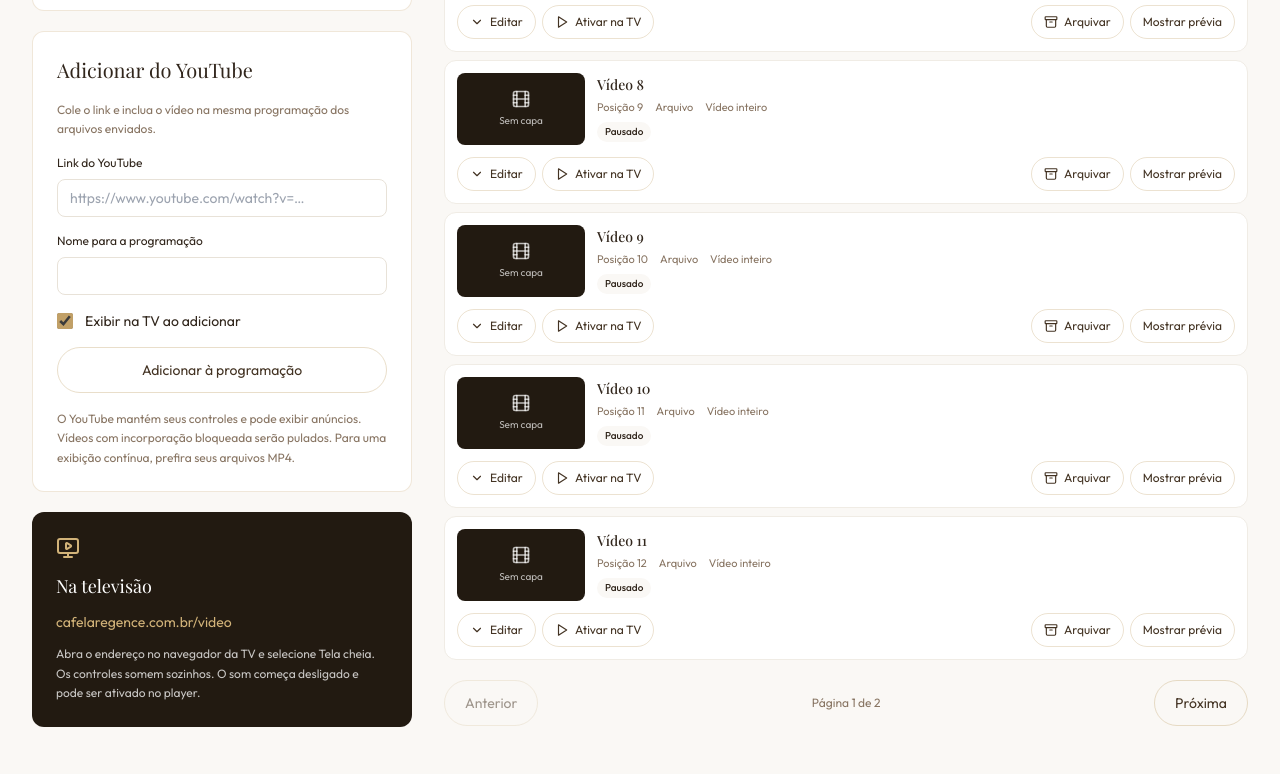
Test: bounds the playlist to 12 items per page and resets the page when filtering
(page scrolled)
Expected: the button "Anterior" is disabled, [444,680,538,726]
Click the button "Próxima": point(1201, 703) [1154,680,1248,726]
(page scrolled)
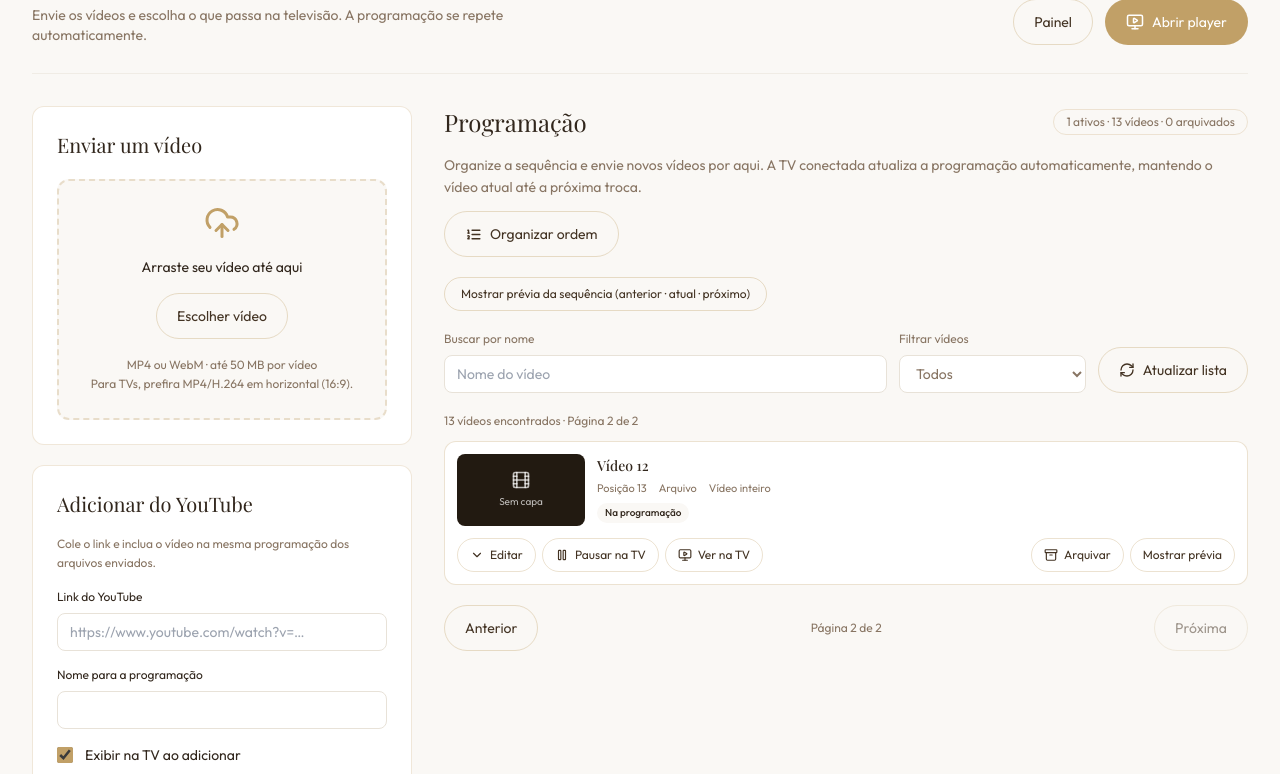
Expected: the element "Vídeo 12" is shown, [444,441,1248,585]
Expected: the button "Próxima" is disabled, [1154,605,1248,651]
Select "Ativos" in the dropdown labelled "Filtrar vídeos": point(992, 374) [899,355,1086,393]
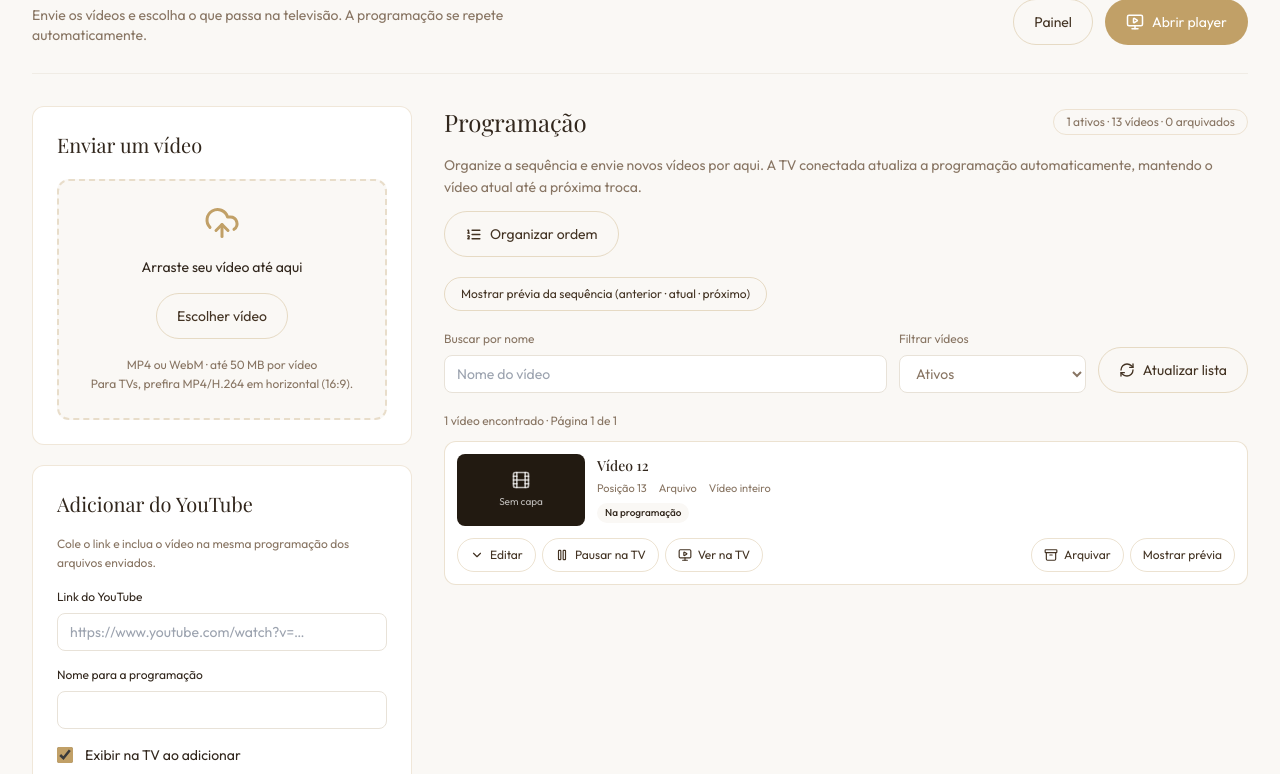
Expected: the message shows "Página 1 de 1", [444,413,617,428]
